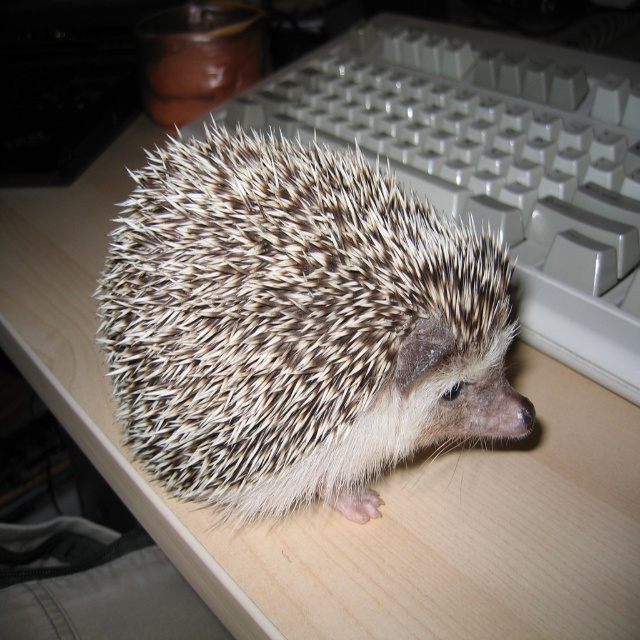Hedgehog: (90, 110, 538, 541)
